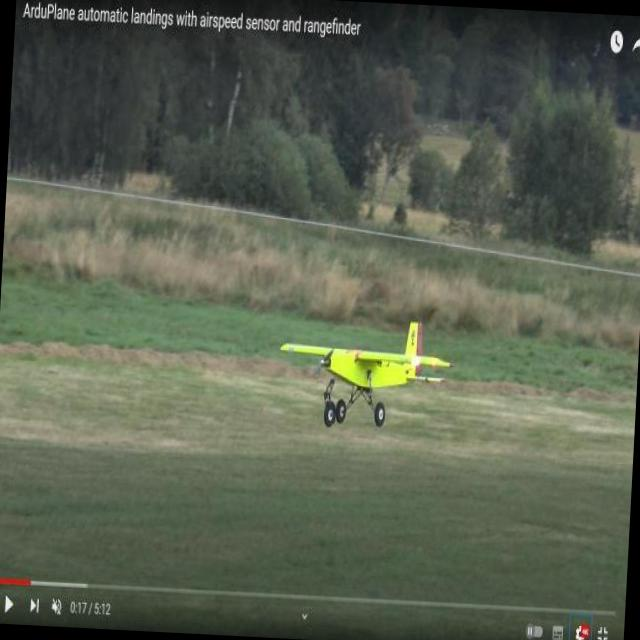UAV: (272, 311, 426, 436)
